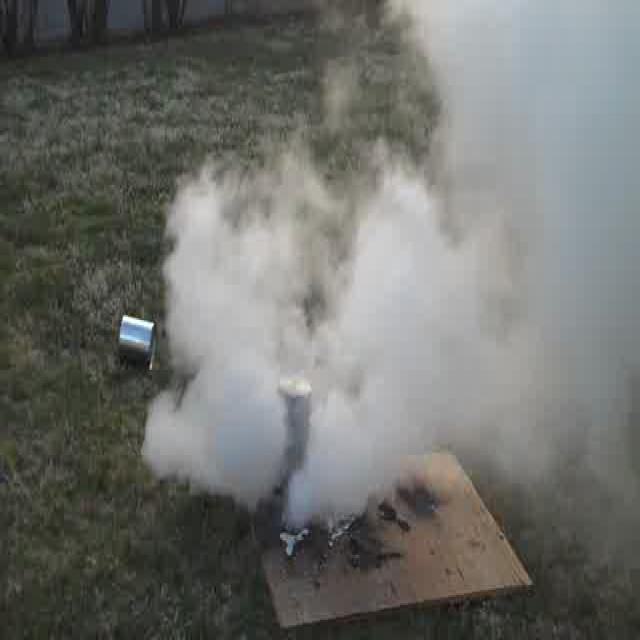Smoke: (156, 144, 640, 484)
